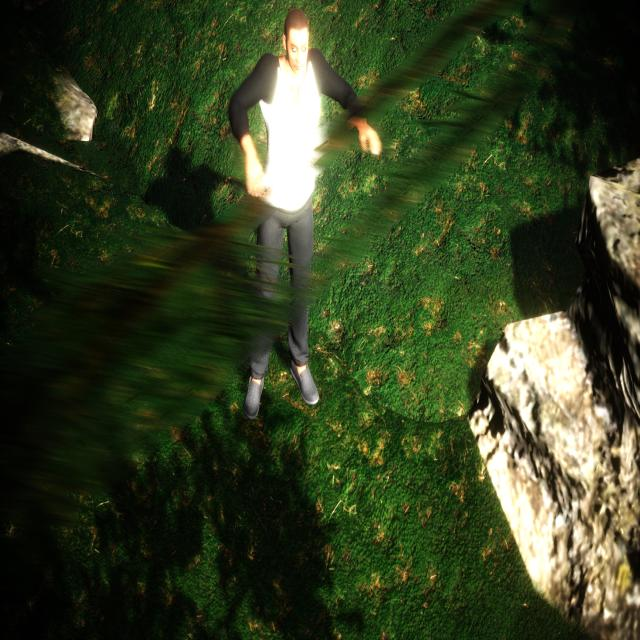Human: (217, 0, 387, 422)
